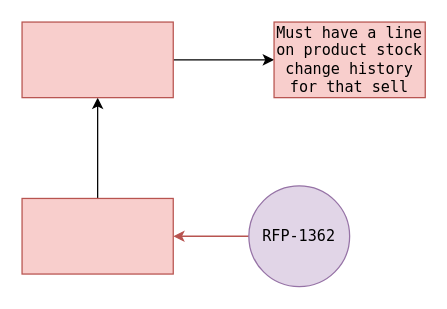
Image size: 447x309. Some labels were removed from this diagram. The box of each missing label's shape, as (x1, y1, x2, y2) in pixels:
Finish an iFood selling, generate NFCe: (21, 197, 173, 274)
Must debt from product stock the quantity sold: (21, 21, 173, 98)
